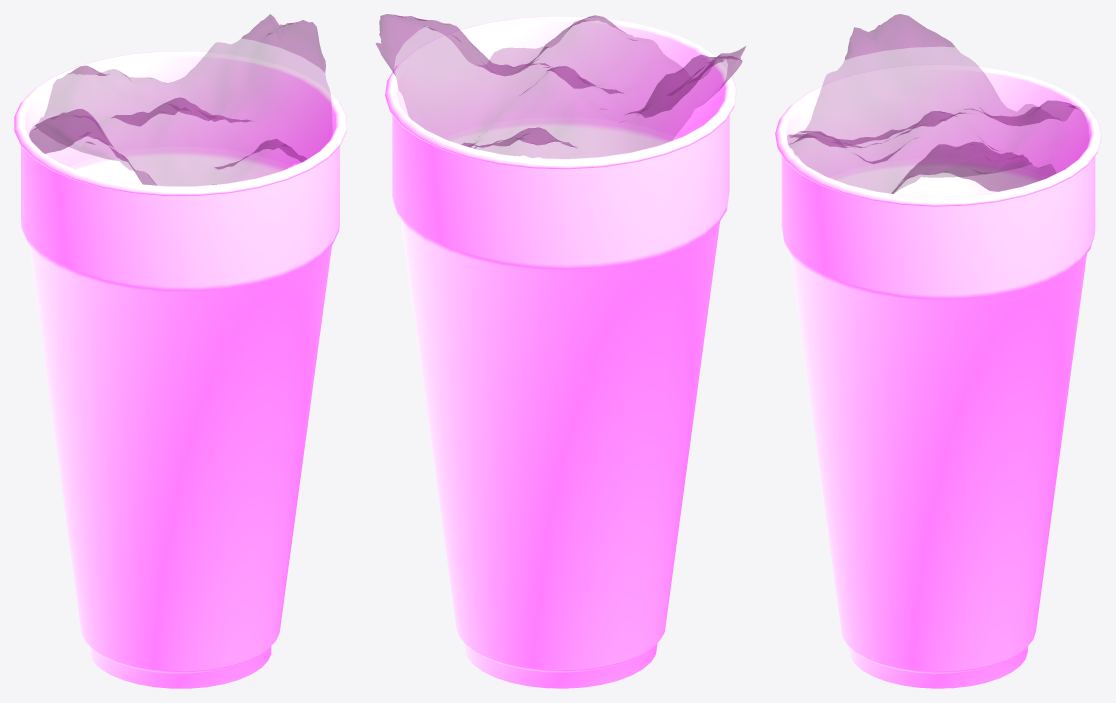
File: DoubleCup.glb
3 views of the same model, side by side, from view 1: azimuth 30°, elevation 25°; view 2: azimuth 150°, elevation 25°; view 3: azimuth 270°, elevation 25° (orthographic). The views are drawn at different scales.
Visible parts, largest first — view 1: Lean (REMADE 3/28/21); view 2: Lean (REMADE 3/28/21); view 3: Lean (REMADE 3/28/21).
Part boxes in pixels (box(x1,y1,x2,y2)): Lean (REMADE 3/28/21): box(14, 14, 346, 688); Lean (REMADE 3/28/21): box(376, 14, 745, 688); Lean (REMADE 3/28/21): box(775, 14, 1101, 688).
Bounding box in the file's own units: 0.7744 × 1.41 × 0.7364.
Materials: 2 (1 with a texture image).
